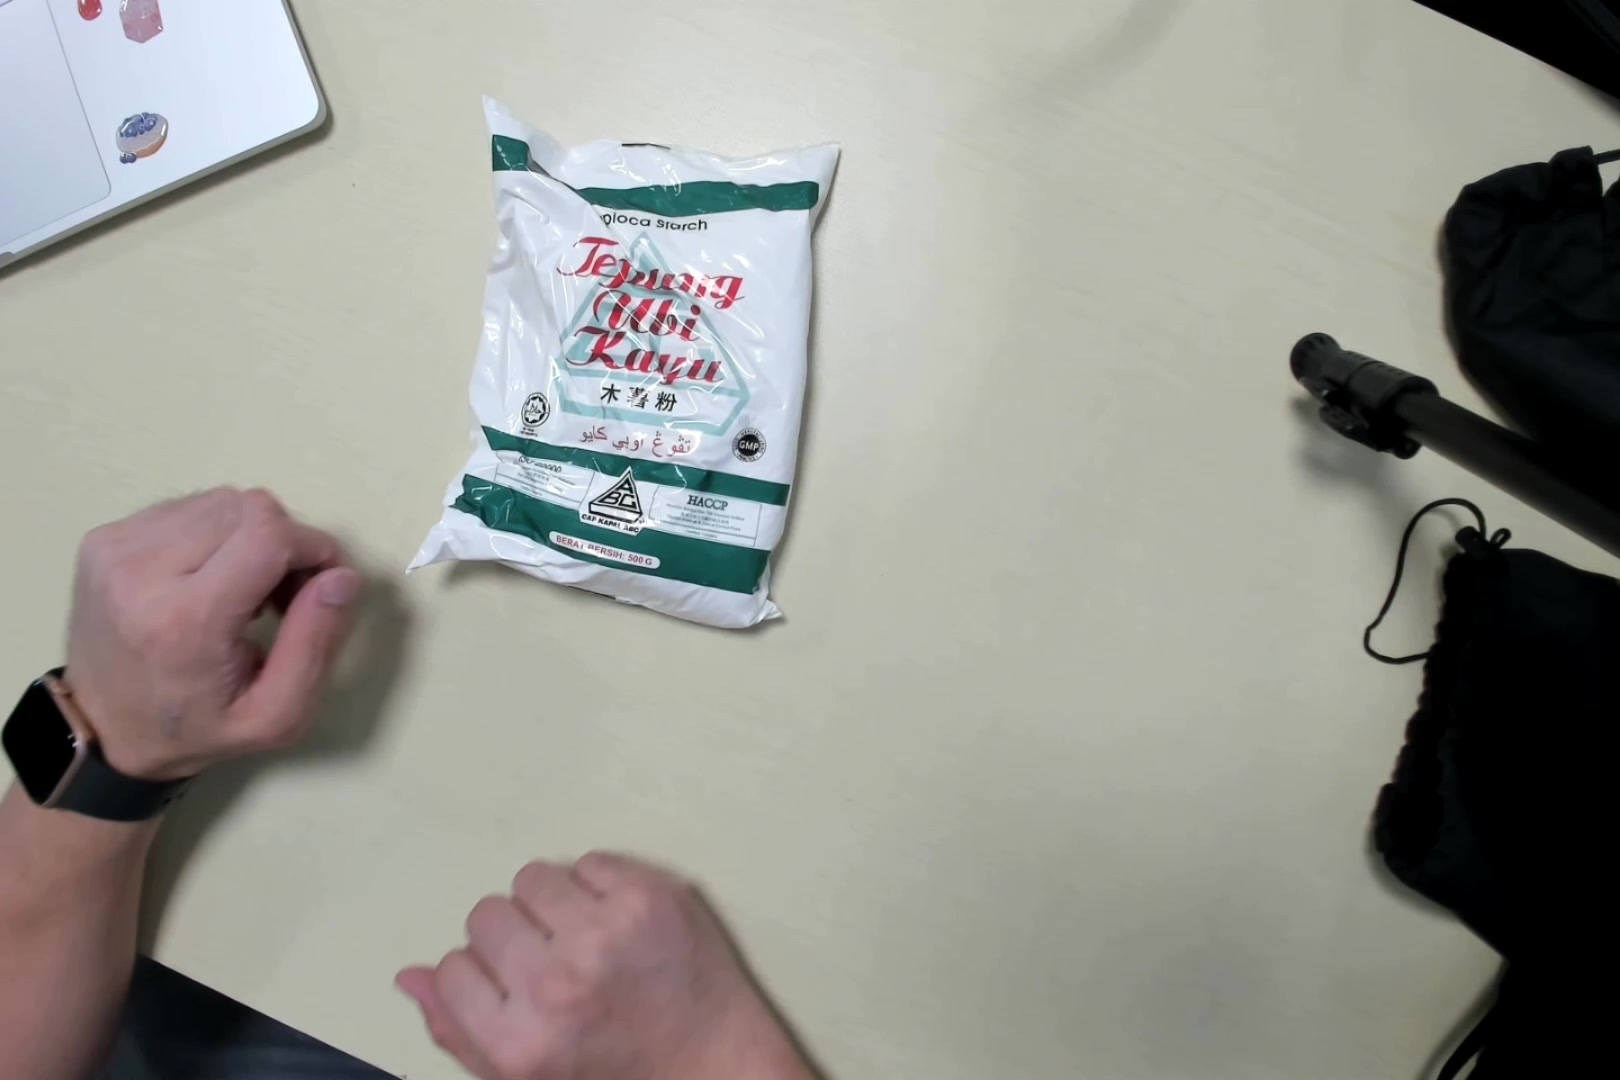Flour_500-599g_Halal_NonHealthy: (428, 100, 840, 642)
